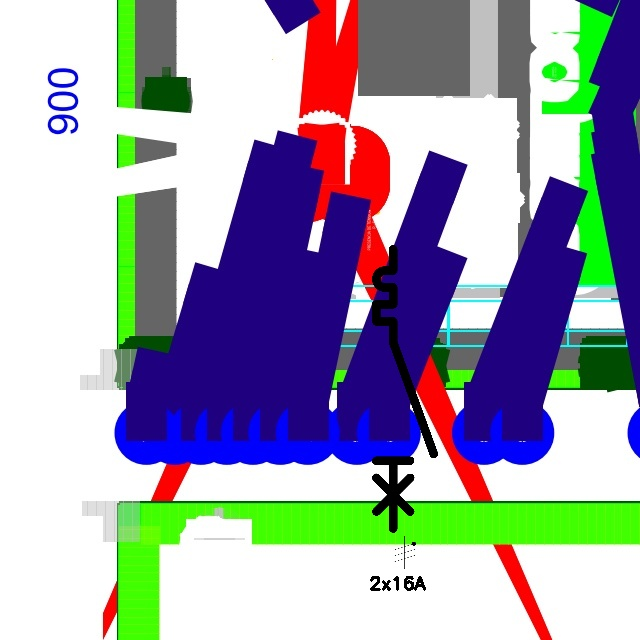interruptor_termomagnetico: (369, 242, 441, 536)
